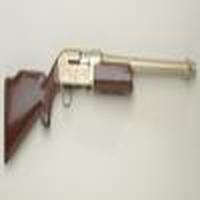gun: (1, 42, 196, 155)
